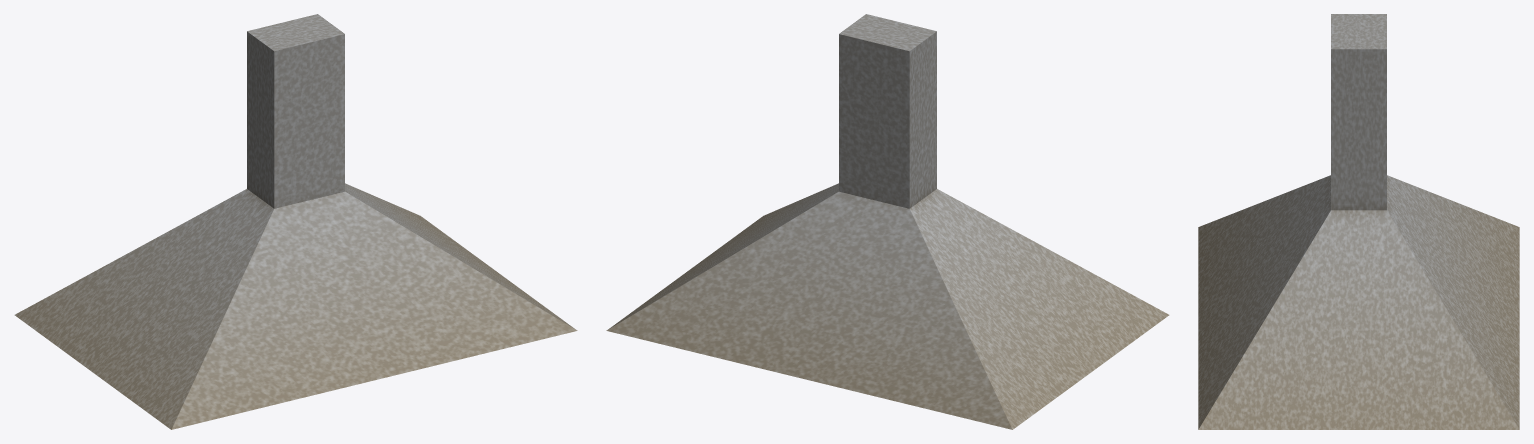
File: coifa_sujo_realista.glb
3 views of the same model, side by side, from view 1: azimuth 30°, elevation 25°; view 2: azimuth 150°, elevation 25°; view 3: azimuth 270°, elevation 25° (orthographic). The views are drawn at different scales.
Parts seen in each view (by area): view 1: Cube; view 2: Cube; view 3: Cube.
Boxes of the visible parts, x1,y1,x2,y2 form: Cube: (14, 14, 577, 429); Cube: (606, 14, 1169, 429); Cube: (1198, 14, 1519, 429).
Size of the model in its own units: 2.26 by 1.54 by 1.51.
1 material, 1 textured.
